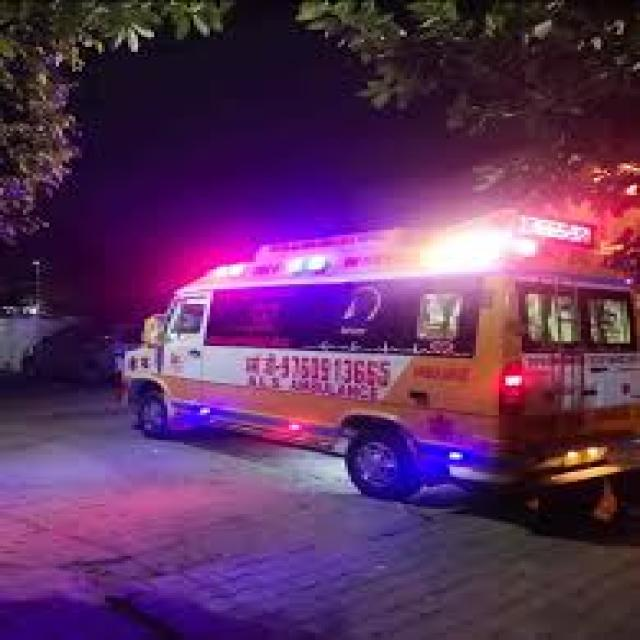ambulance: (128, 208, 637, 512)
